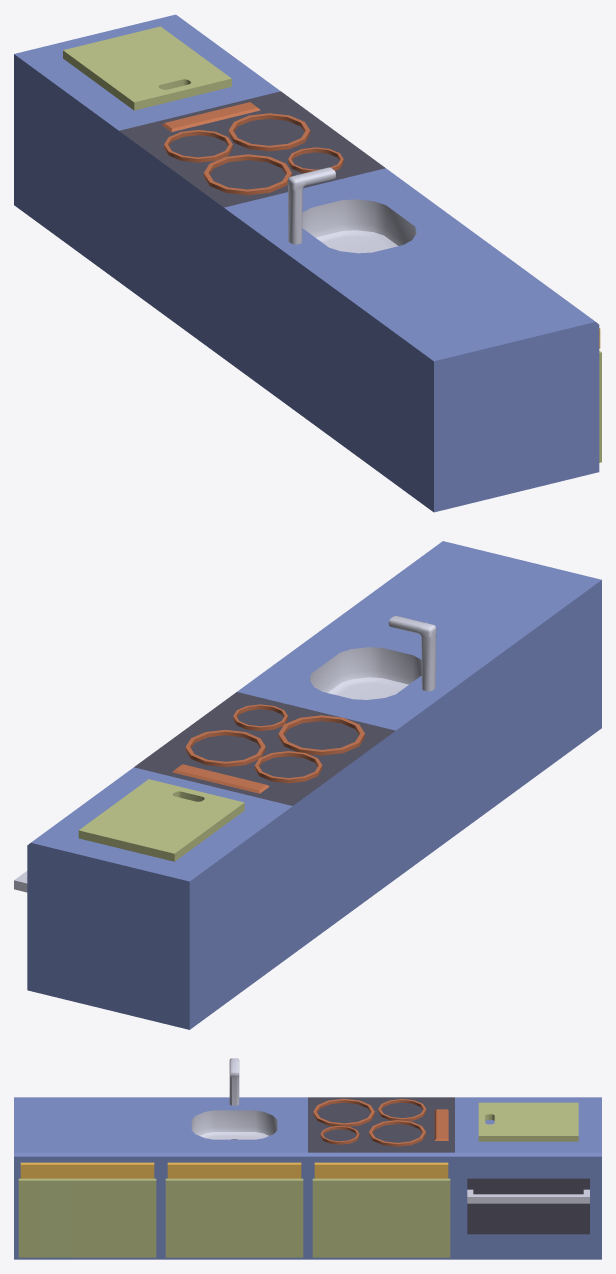
File: obj_kitchen_4x1.FBX
3 views of the same model, one above another, from view 1: azimuth 30°, elevation 25°; view 2: azimuth 150°, elevation 25°; view 3: azimuth 270°, elevation 25° (orthographic). The views are drawn at different scales.
Visible parts, largest first — view 1: obj_kitchen_4x1; view 2: obj_kitchen_4x1; view 3: obj_kitchen_4x1.
Boxes of the visible parts, x1,y1,x2,y2 form: obj_kitchen_4x1: (14,14,601,512); obj_kitchen_4x1: (14,541,601,1029); obj_kitchen_4x1: (14,1058,601,1259).
Bounding box in the file's own units: 0.9911 × 1.08 × 3.84.
